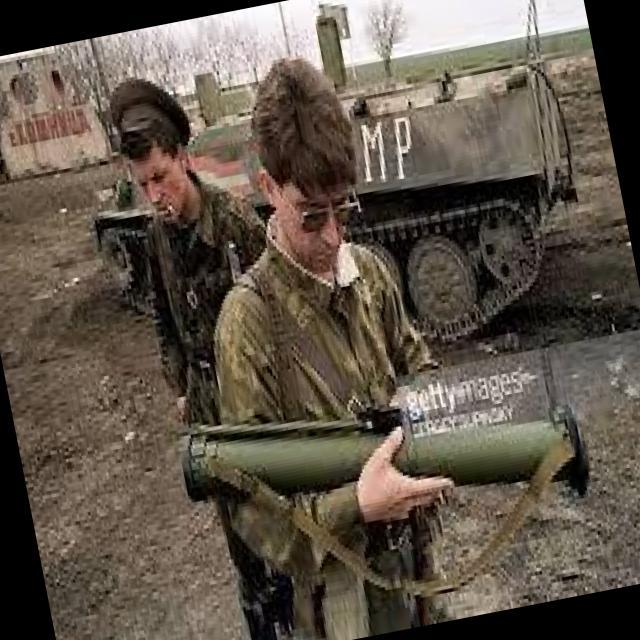rocket: (175, 348, 594, 566)
